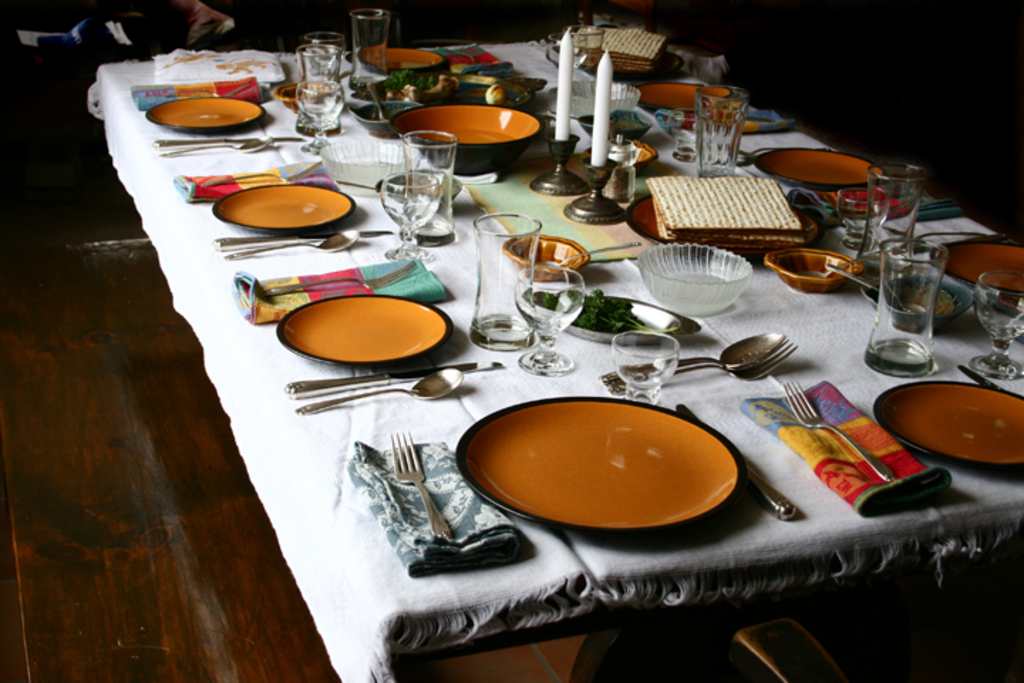plate: (472, 402, 748, 525)
